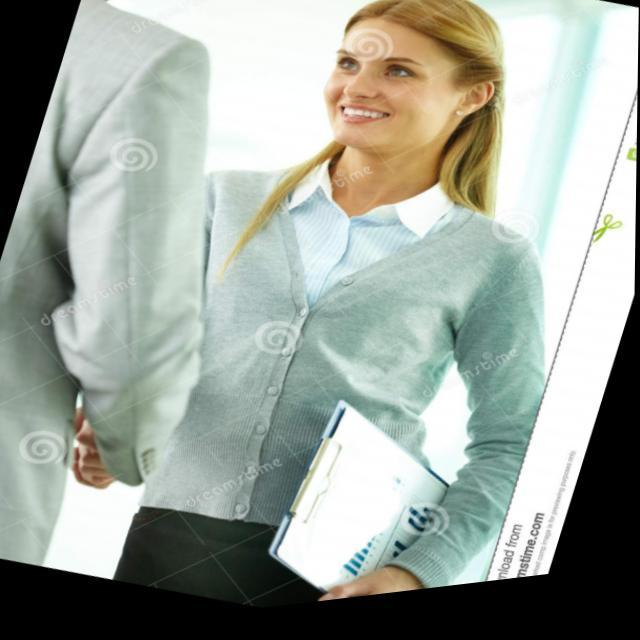Nonhelmet: (317, 0, 506, 212)
